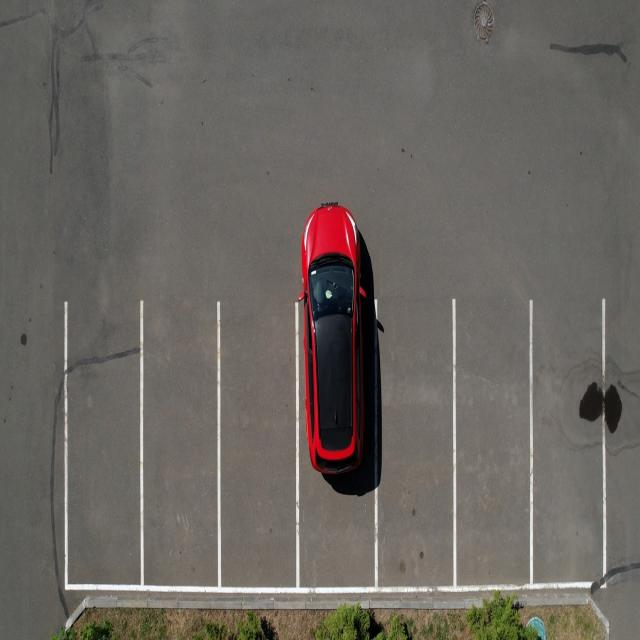space-empty: (375, 278, 457, 587), (451, 298, 535, 586), (62, 302, 144, 588), (528, 295, 608, 586), (140, 301, 221, 588), (219, 300, 299, 590)
space-occupied: (296, 249, 376, 588)
